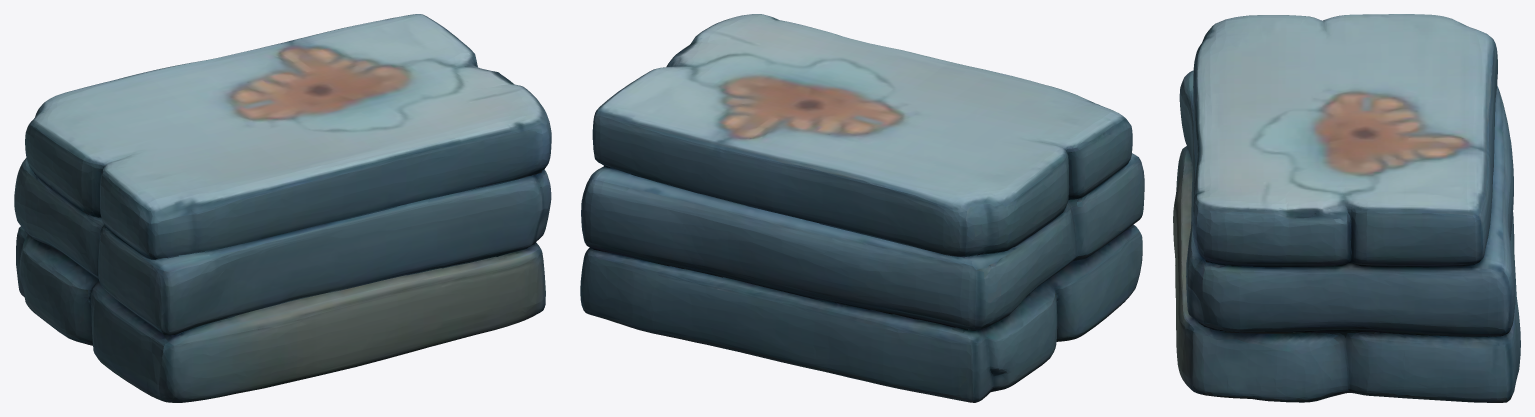
File: stone_floor.glb
3 views of the same model, side by side, from view 1: azimuth 30°, elevation 25°; view 2: azimuth 150°, elevation 25°; view 3: azimuth 270°, elevation 25° (orthographic).
Visible parts, largest first — view 1: world; view 2: world; view 3: world.
Part boxes in pixels (<box>): world: <box>14,14,551,402</box>; world: <box>580,14,1144,402</box>; world: <box>1173,14,1520,402</box>.
Bounding box in the file's own units: 0.9975 × 0.4573 × 0.7265.
Materials: 1 (1 with a texture image).
